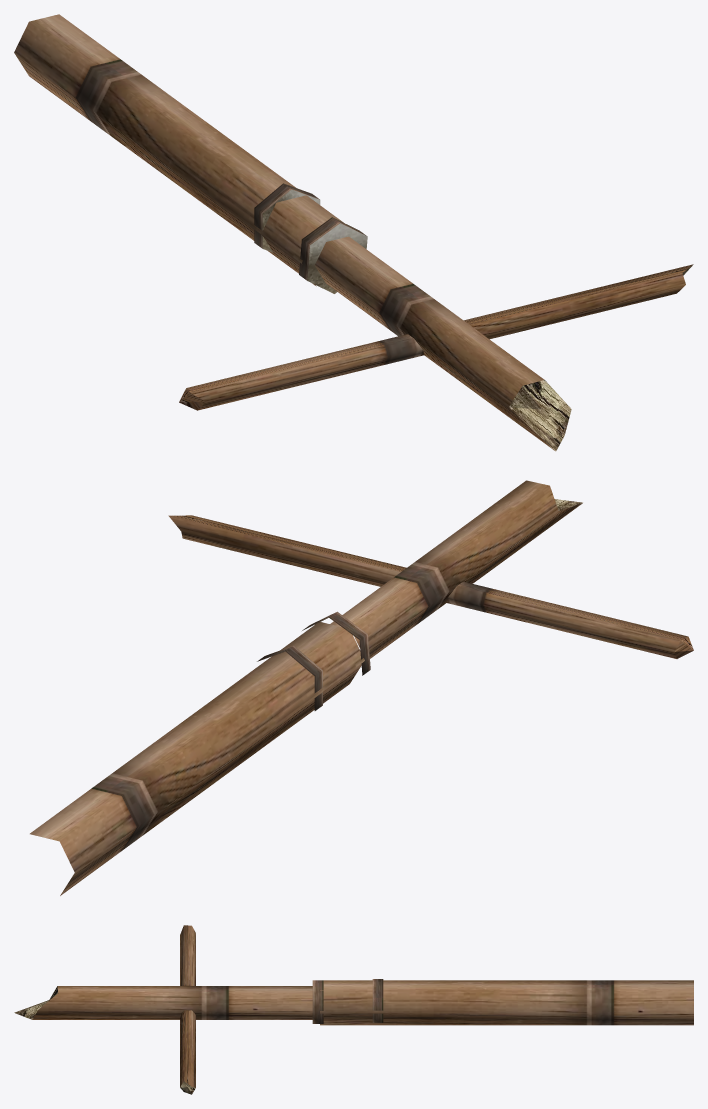
3 views of the same model, one above another, from view 1: azimuth 30°, elevation 25°; view 2: azimuth 150°, elevation 25°; view 3: azimuth 270°, elevation 25° (orthographic). The views are drawn at different scales.
Parts seen in each view (by area): view 1: model_Object19; view 2: model_Object19; view 3: model_Object19.
Boxes of the visible parts, box(x1,y1,x2,y2) form: model_Object19: box(14, 14, 693, 451); model_Object19: box(30, 480, 693, 895); model_Object19: box(14, 925, 693, 1094).
Bounding box in the file's own units: 3.24 × 0.4206 × 5.66.
3 materials, 3 textured.
